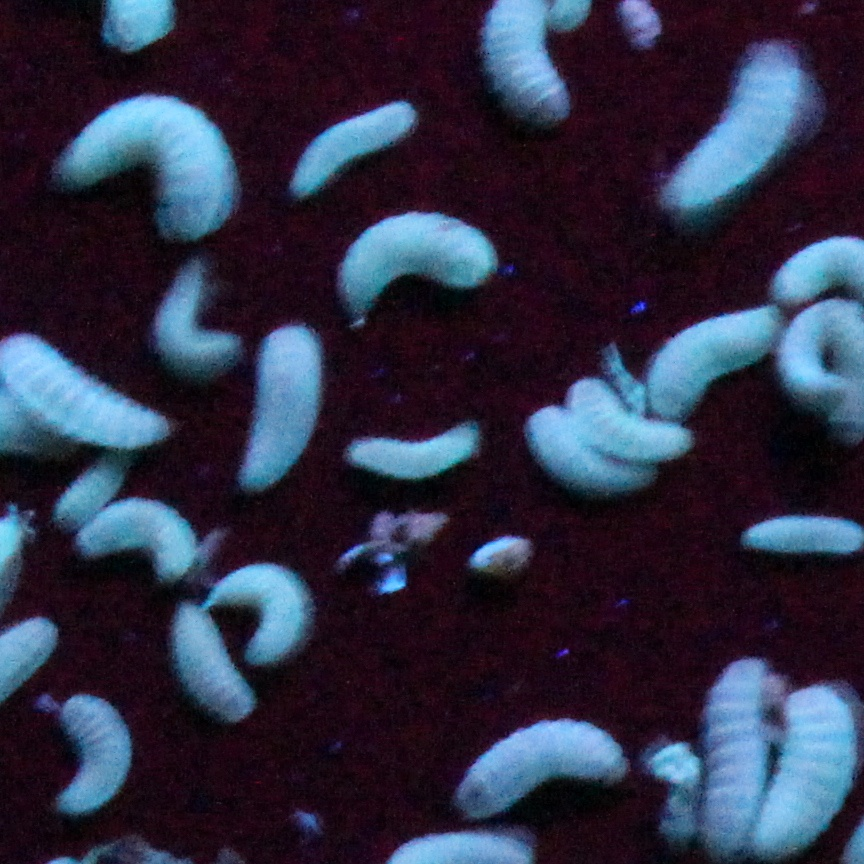larve: (660, 41, 806, 217), (62, 94, 234, 243), (769, 681, 860, 853), (2, 334, 151, 436), (344, 222, 493, 315), (706, 653, 767, 845), (655, 301, 772, 401), (462, 725, 628, 788), (258, 332, 320, 488), (218, 567, 314, 667), (297, 97, 406, 180), (539, 413, 649, 494), (86, 503, 199, 571), (60, 694, 123, 815), (574, 390, 686, 457), (170, 618, 244, 717), (165, 262, 232, 360), (351, 418, 470, 473), (51, 460, 134, 520), (790, 310, 827, 408), (749, 517, 860, 545)
